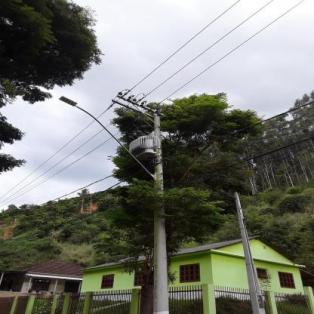Poste: (149, 102, 170, 314)
